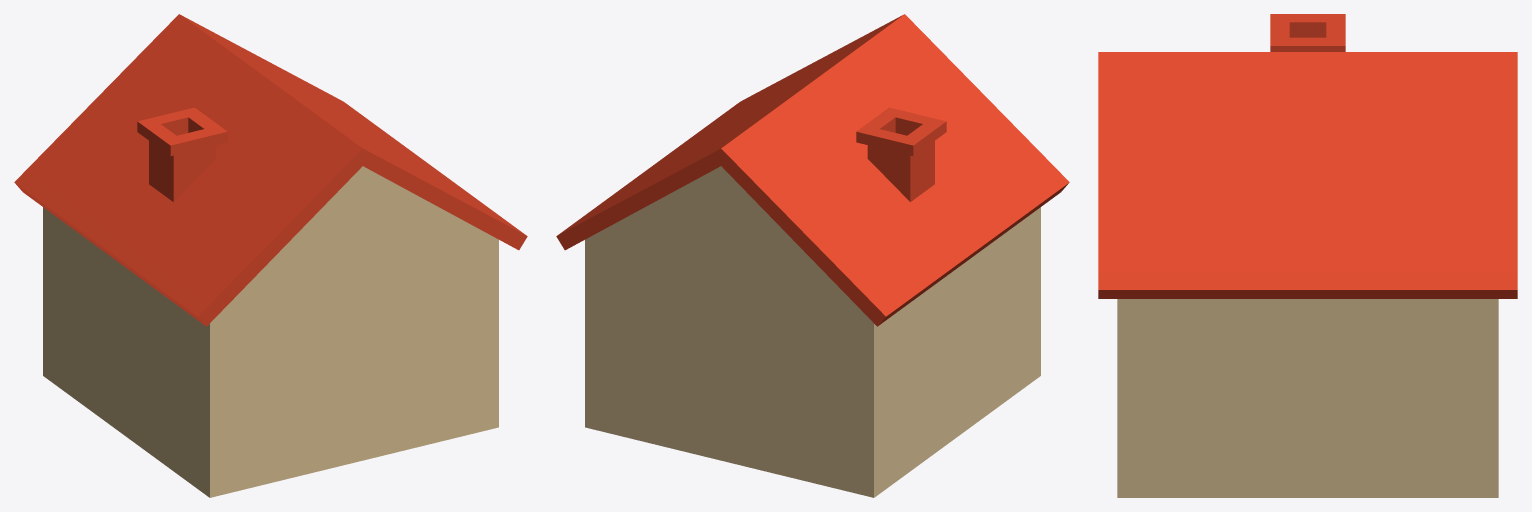
Rendered from house.glb.
The picture shows the model from 3 angles, left to right: view 1: azimuth 30°, elevation 25°; view 2: azimuth 150°, elevation 25°; view 3: azimuth 270°, elevation 25°; orthographic projection. The views are drawn at different scales.
Parts seen in each view (by area): view 1: house; view 2: house; view 3: house.
Boxes of the visible parts, x1,y1,x2,y2 form: house: [14, 14, 527, 497]; house: [556, 14, 1069, 497]; house: [1098, 14, 1517, 497].
Size of the model in its own units: 2.28 by 2.12 by 2.2.
